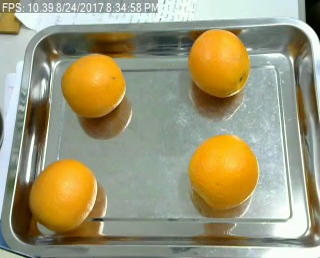Orange: (188, 135, 260, 210), (27, 159, 97, 231), (187, 28, 250, 97), (60, 52, 126, 117)
